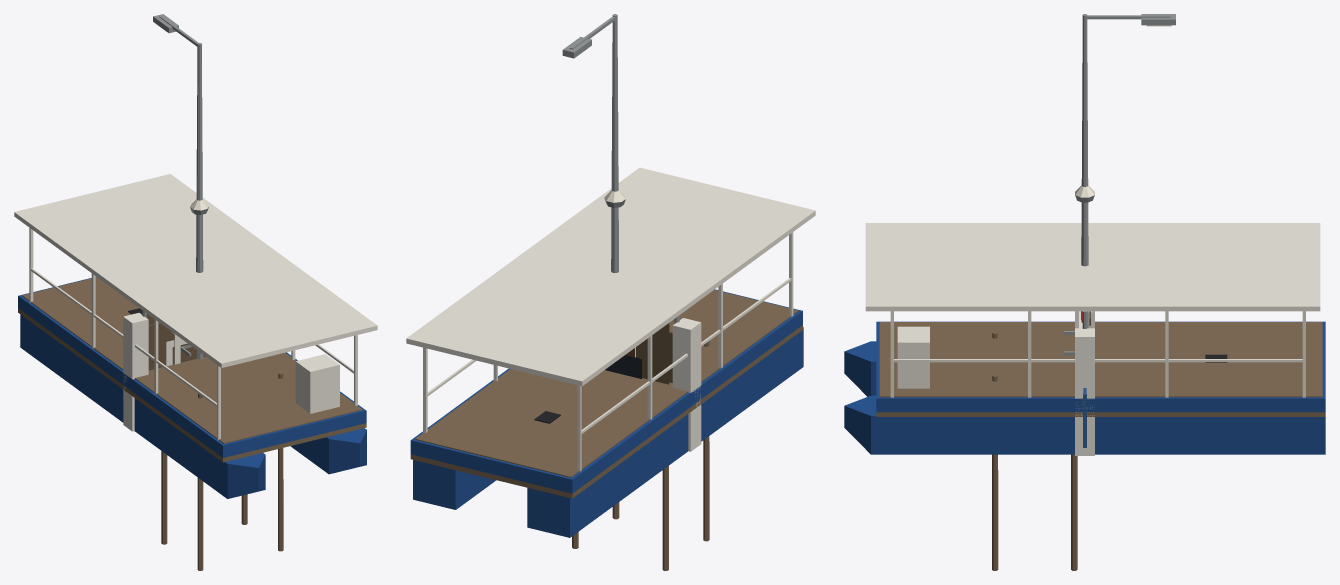
Rendered from kit.glb.
The picture shows the model from 3 angles, left to right: view 1: azimuth 30°, elevation 25°; view 2: azimuth 150°, elevation 25°; view 3: azimuth 270°, elevation 25°; orthographic projection. The views are drawn at different scales.
Parts seen in each view (by area): view 1: excursion, gate_yard, platform, lamp; view 2: excursion, gate_yard, lamp, platform, door_barn, window_shutter; view 3: excursion, lamp, gate_yard, platform.
Part boxes in pixels (x1,y1,x2,y2): excursion: [14, 174, 377, 498]; gate_yard: [123, 313, 205, 431]; platform: [161, 372, 283, 570]; lamp: [153, 14, 203, 359]; excursion: [406, 167, 815, 537]; gate_yard: [669, 318, 701, 451]; lamp: [562, 14, 618, 272]; platform: [572, 341, 709, 570]; door_barn: [636, 323, 669, 384]; window_shutter: [605, 355, 641, 378]; excursion: [844, 223, 1325, 454]; lamp: [1081, 14, 1175, 328]; gate_yard: [1075, 311, 1094, 455]; platform: [992, 332, 1077, 570].
Size of the model in its own units: 3.85 by 11 by 9.
